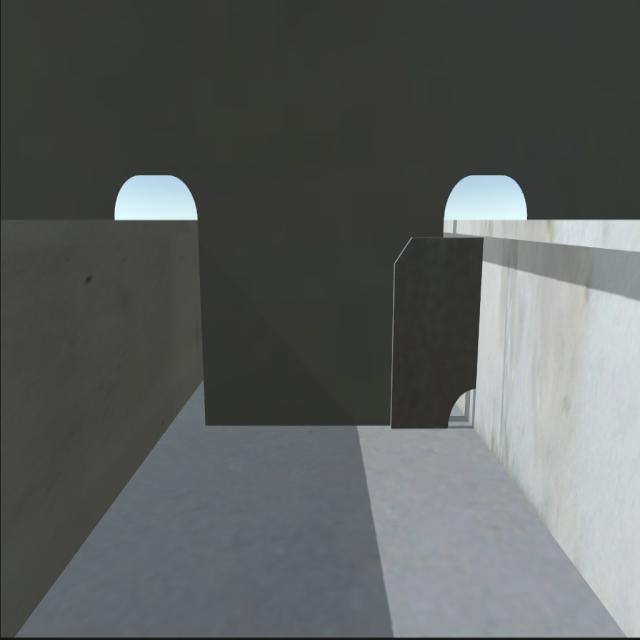fillet_hole: (442, 387, 476, 423)
fillet_yong_jeop_jang: (204, 414, 446, 436)
longi_yong_jeop_jang: (472, 237, 488, 391)
plate_CP03: (392, 234, 476, 428)
